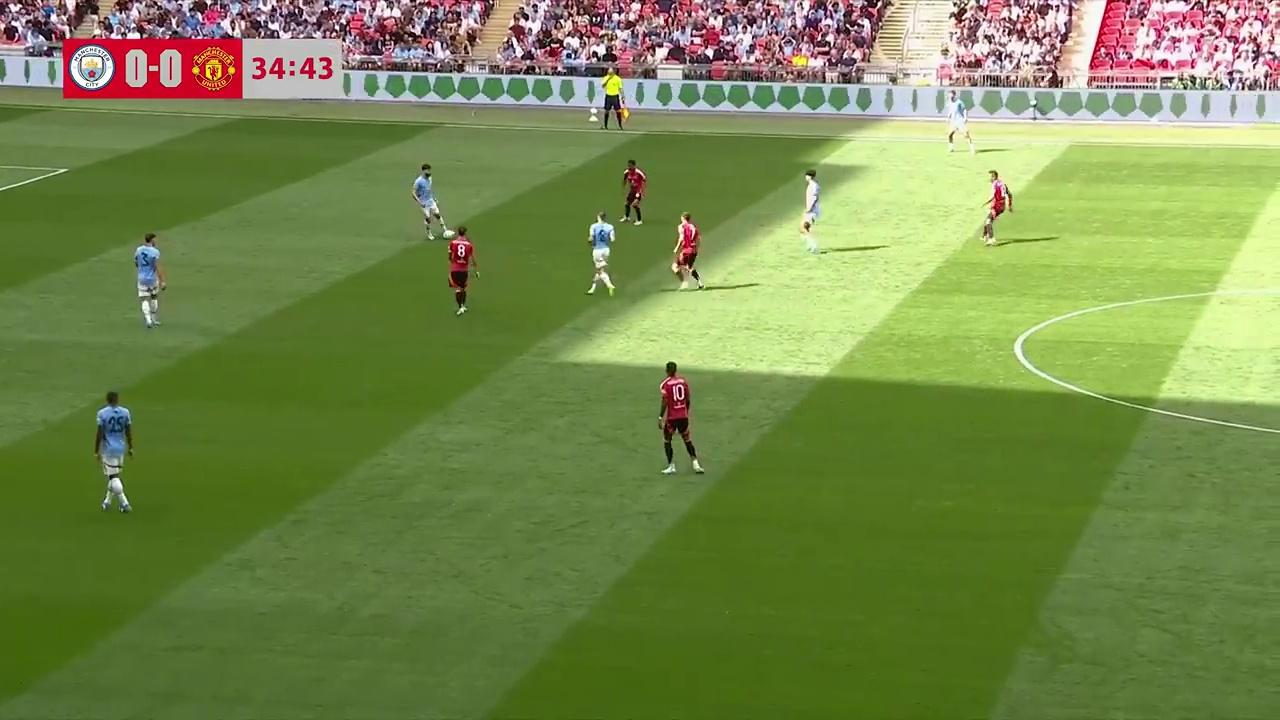ball: (442, 225, 453, 239)
player: (658, 362, 706, 477), (94, 390, 134, 514), (133, 233, 166, 329), (412, 165, 450, 240), (447, 227, 478, 315), (585, 212, 616, 296), (671, 214, 704, 290), (981, 166, 1011, 246), (799, 170, 821, 249), (621, 159, 647, 224), (946, 105, 973, 154)
referee: (600, 69, 627, 130)
